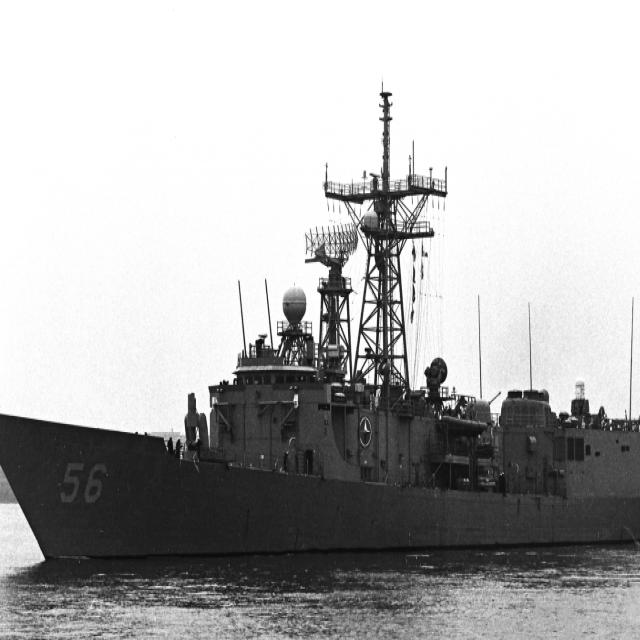Fragata: (1, 82, 640, 579)
